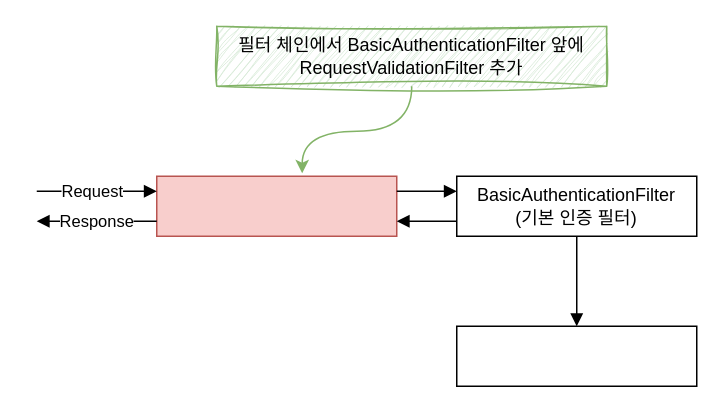
This 723x413 diagram has some shape labels left out. The shapes that lost their labels are listed below. From the top down, each one's centre as x and y in pixels, then its label:
At (x=276, y=205): "RequestValidationFilter".
At (x=576, y=355): "AuthenticationManager (인증 관리자)".
